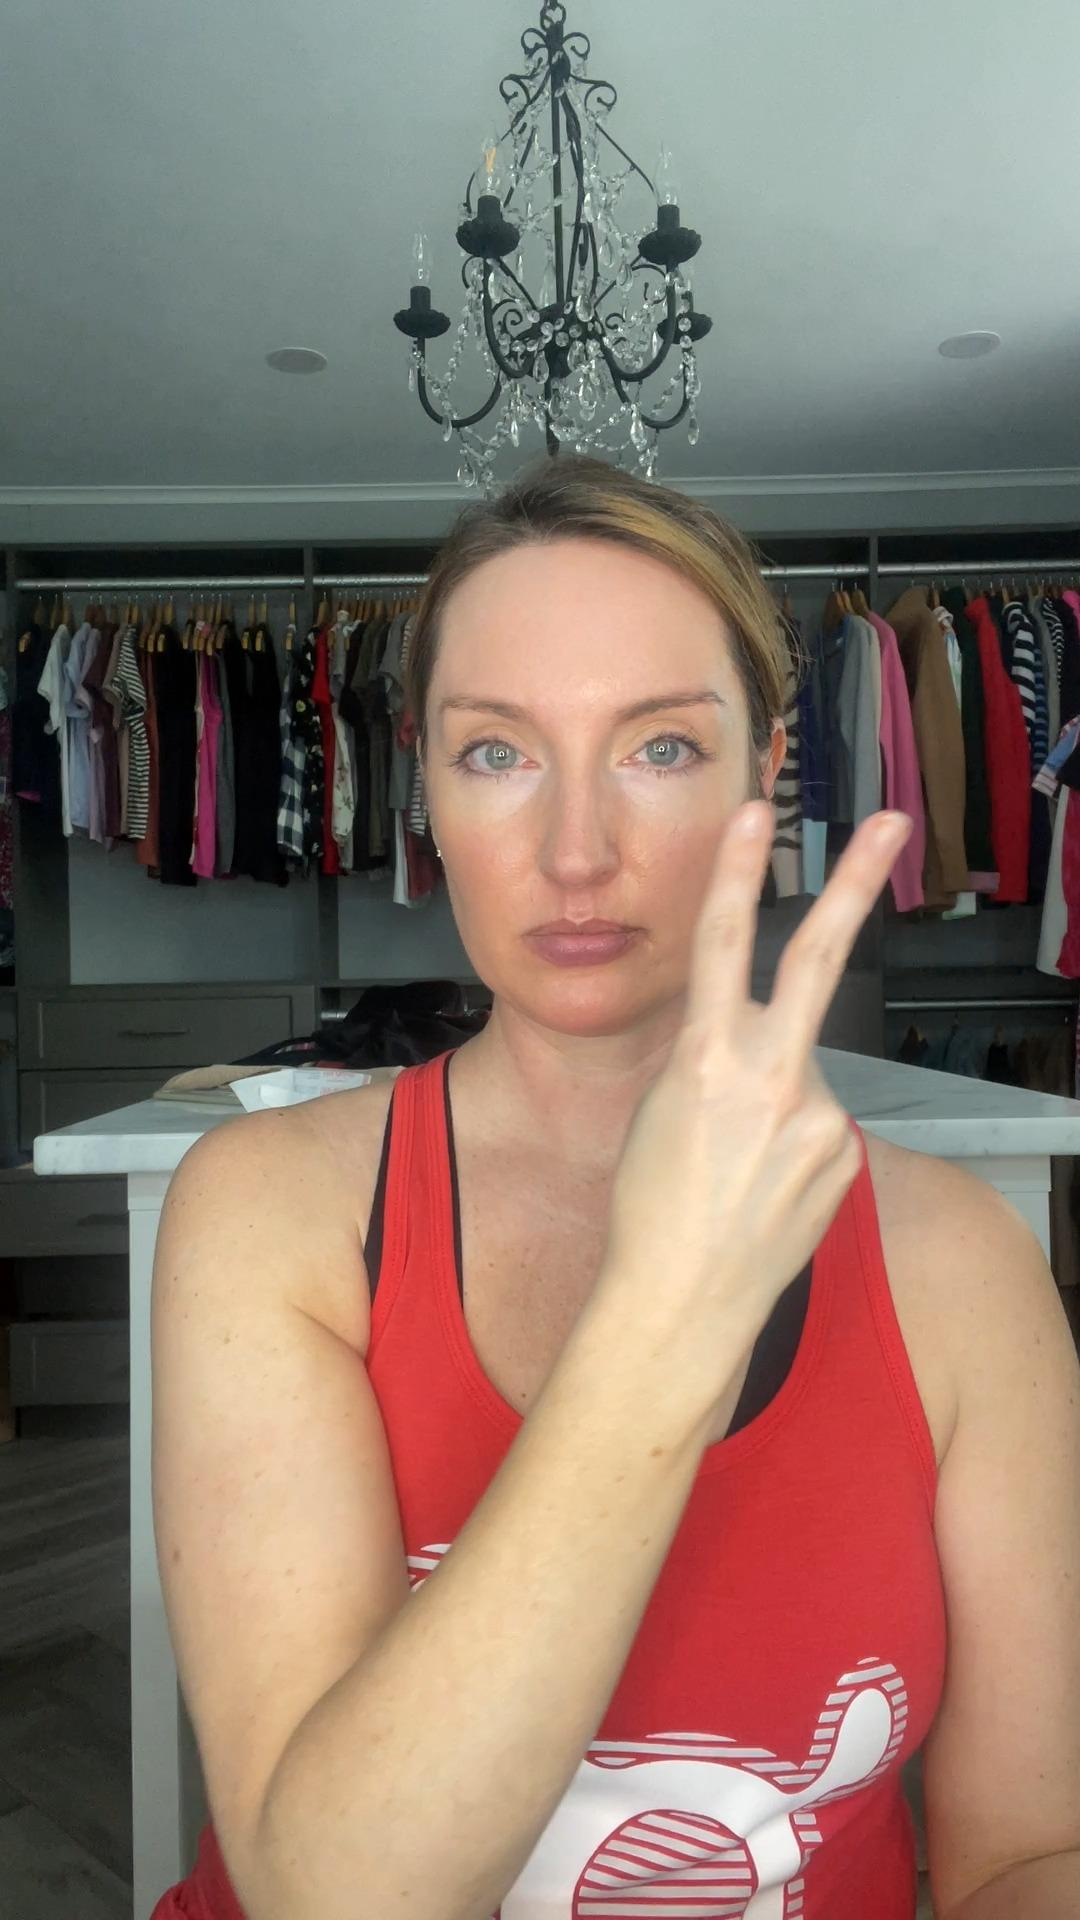Scissors: (624, 794, 923, 1332)
